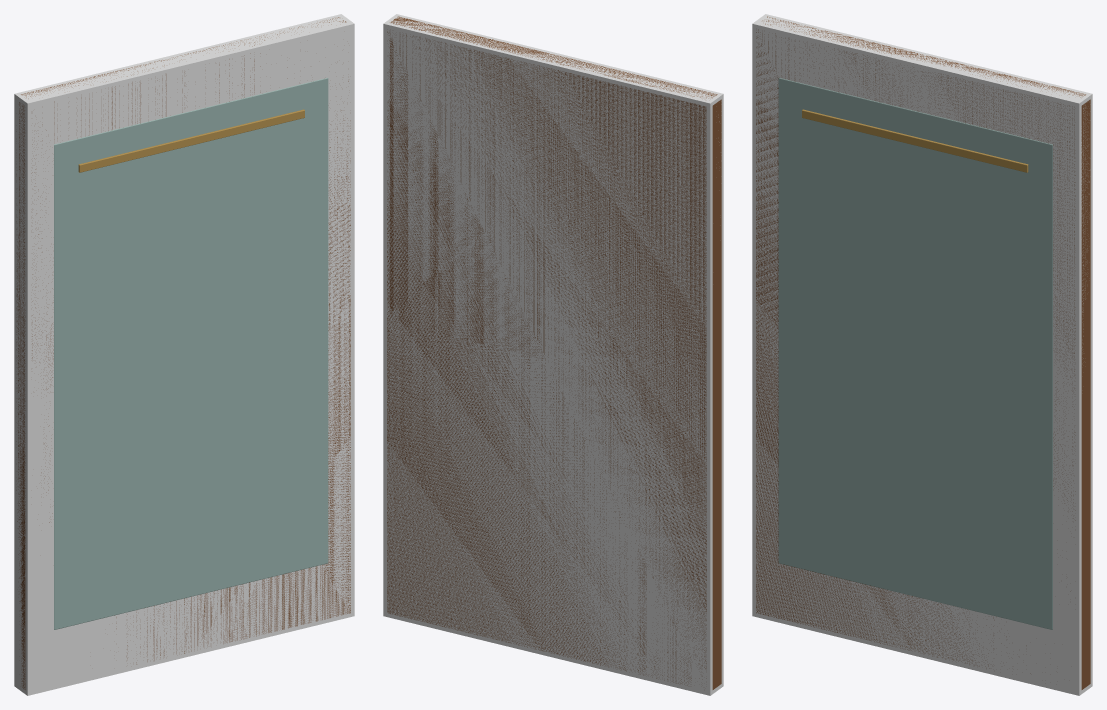
The model's file is mirror_boutique.glb.
3 views of the same model, side by side, from view 1: azimuth 30°, elevation 25°; view 2: azimuth 150°, elevation 25°; view 3: azimuth 330°, elevation 25° (orthographic).
Visible parts, largest first — view 1: MESH_Inset, COL_mirror, MESH_Frame, MESH_TierTrim_01; view 2: COL_mirror, MESH_Frame; view 3: MESH_Inset, COL_mirror, MESH_Frame, MESH_TierTrim_01.
Boxes of the visible parts, left/top/right/bottom form: MESH_Inset: left=54, top=78, right=328, bottom=629; COL_mirror: left=14, top=14, right=354, bottom=695; MESH_Frame: left=16, top=17, right=350, bottom=689; MESH_TierTrim_01: left=78, top=109, right=304, bottom=172; COL_mirror: left=383, top=14, right=723, bottom=695; MESH_Frame: left=387, top=16, right=721, bottom=689; MESH_Inset: left=778, top=78, right=1052, bottom=629; COL_mirror: left=752, top=14, right=1092, bottom=695; MESH_Frame: left=756, top=16, right=1090, bottom=689; MESH_TierTrim_01: left=802, top=109, right=1028, bottom=172.
Size of the model in its own units: 0.78 by 1.35 by 0.0603.
